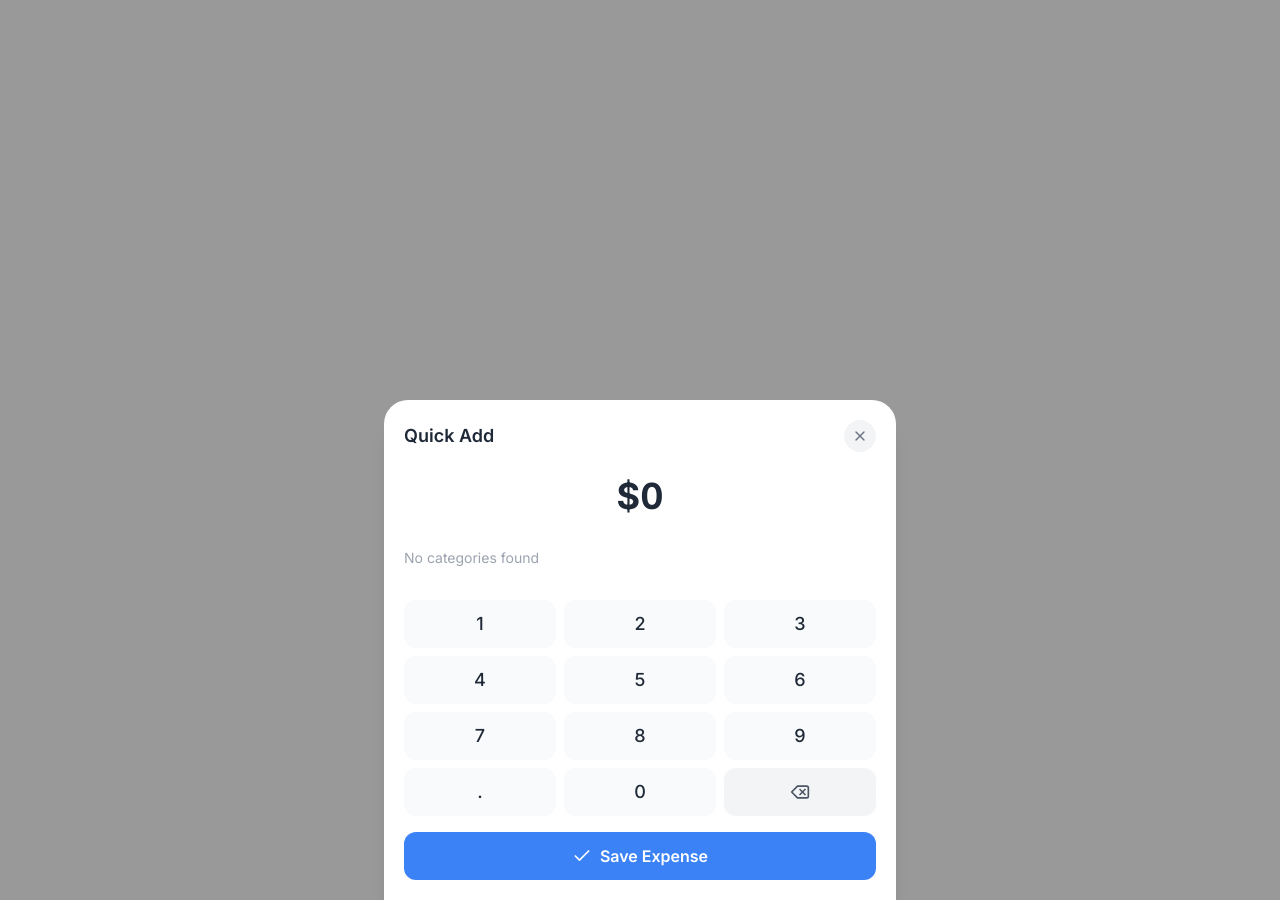
Test: QuickAddModal › replaces leading zero with digit
Initially $0, pressing 7 should give $7, not $07
Click the button "7".
click(480, 736)  # box [404,712,556,760]
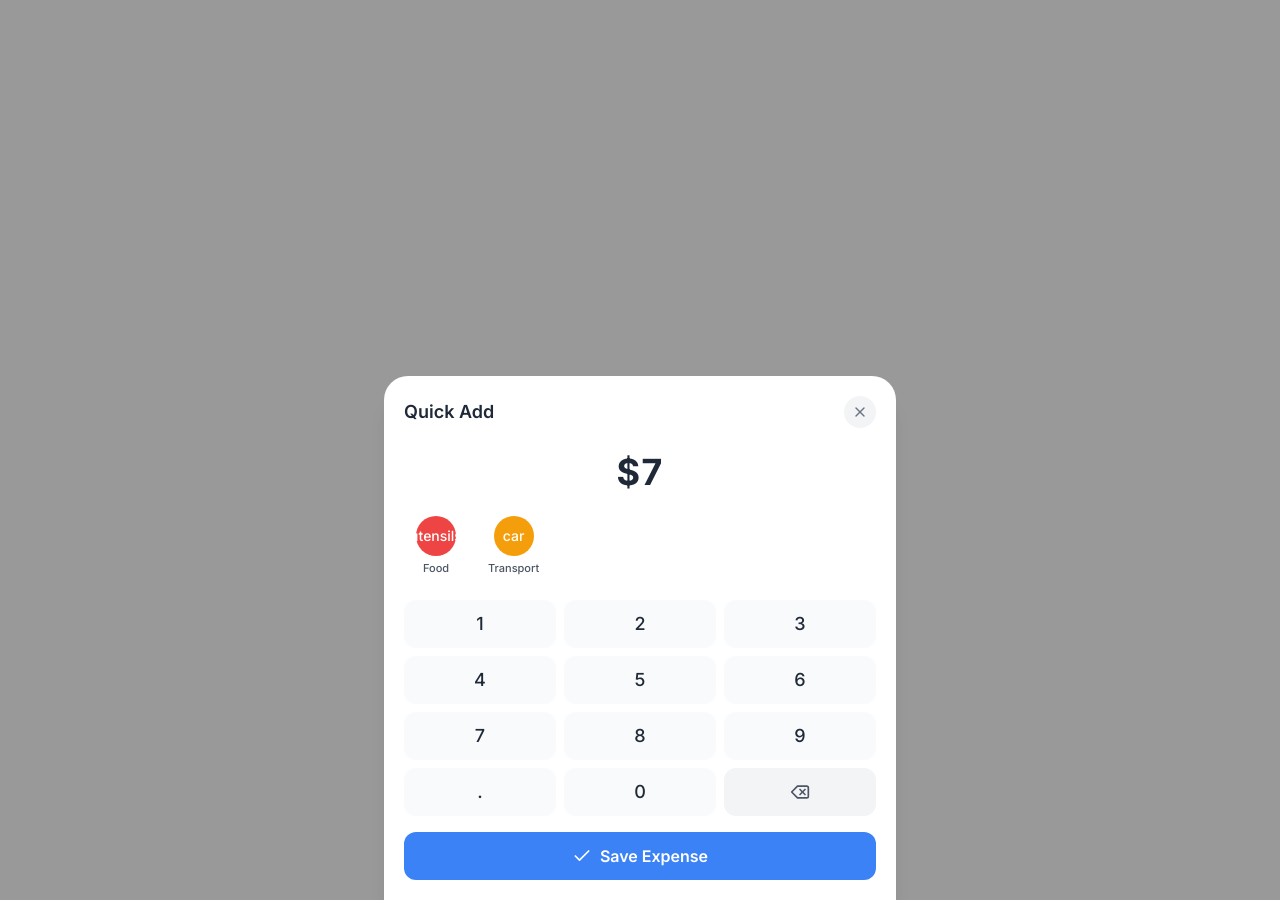
Expected: the text "$7" is shown, [617,450,664,494]
